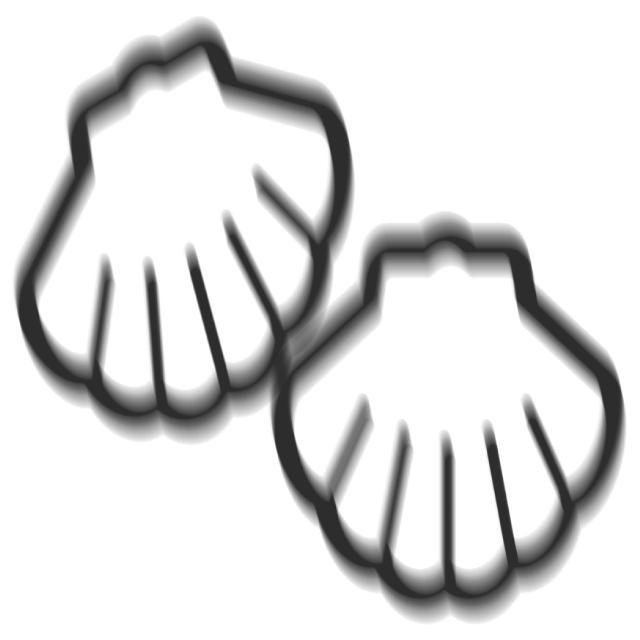shell: (7, 9, 361, 451), (264, 210, 633, 633)
